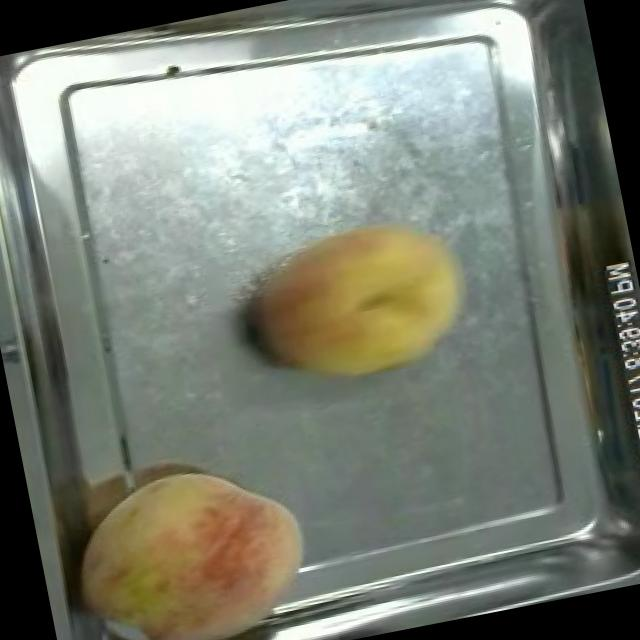Fruit: (51, 441, 330, 640), (227, 198, 485, 410)
